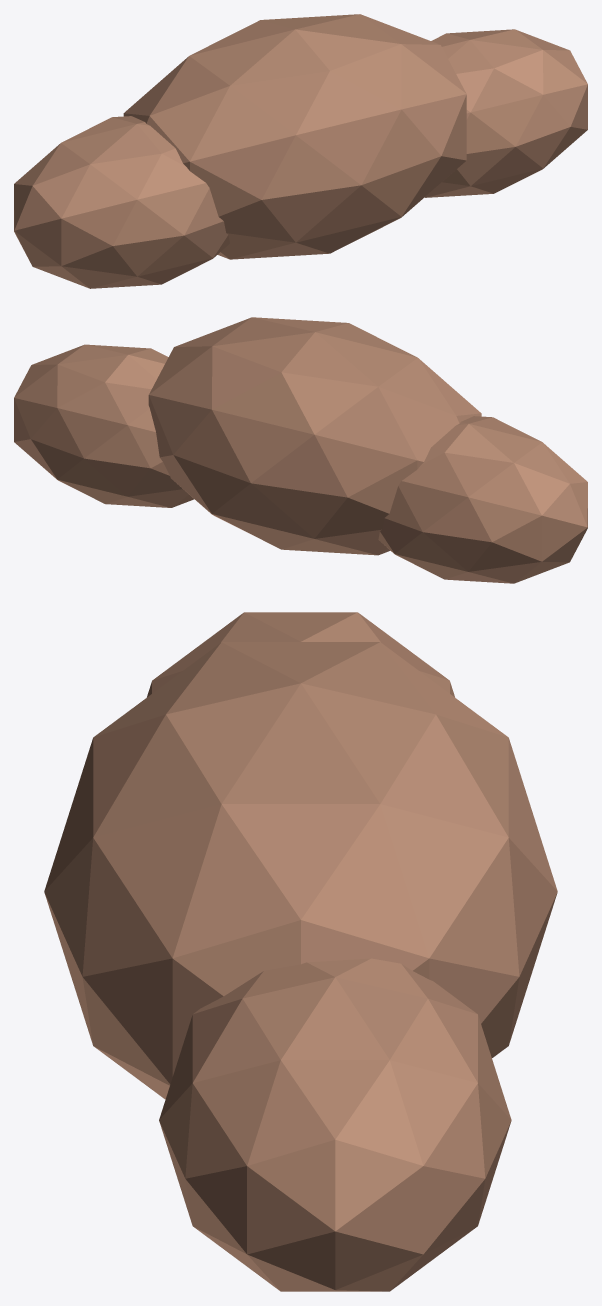
File: red_boulder_cluster.glb
3 views of the same model, one above another, from view 1: azimuth 30°, elevation 25°; view 2: azimuth 150°, elevation 25°; view 3: azimuth 270°, elevation 25° (orthographic). The views are drawn at different scales.
Parts seen in each view (by area): view 1: rock_1, rock_0, rock_2; view 2: rock_1, rock_0, rock_2; view 3: rock_1, rock_2, rock_0.
Boxes of the visible parts, x1=… form: rock_1: x1=123, y1=14, x2=466, y2=259; rock_0: x1=14, y1=116, x2=229, y2=288; rock_2: x1=425, y1=29, x2=587, y2=197; rock_1: x1=148, y1=317, x2=481, y2=555; rock_0: x1=378, y1=416, x2=587, y2=583; rock_2: x1=14, y1=344, x2=193, y2=507; rock_1: x1=44, y1=642, x2=557, y2=1099; rock_2: x1=159, y1=958, x2=511, y2=1291; rock_0: x1=147, y1=612, x2=454, y2=697.
Bounding box in the file's own units: 2.28 × 0.804 × 0.8978.
